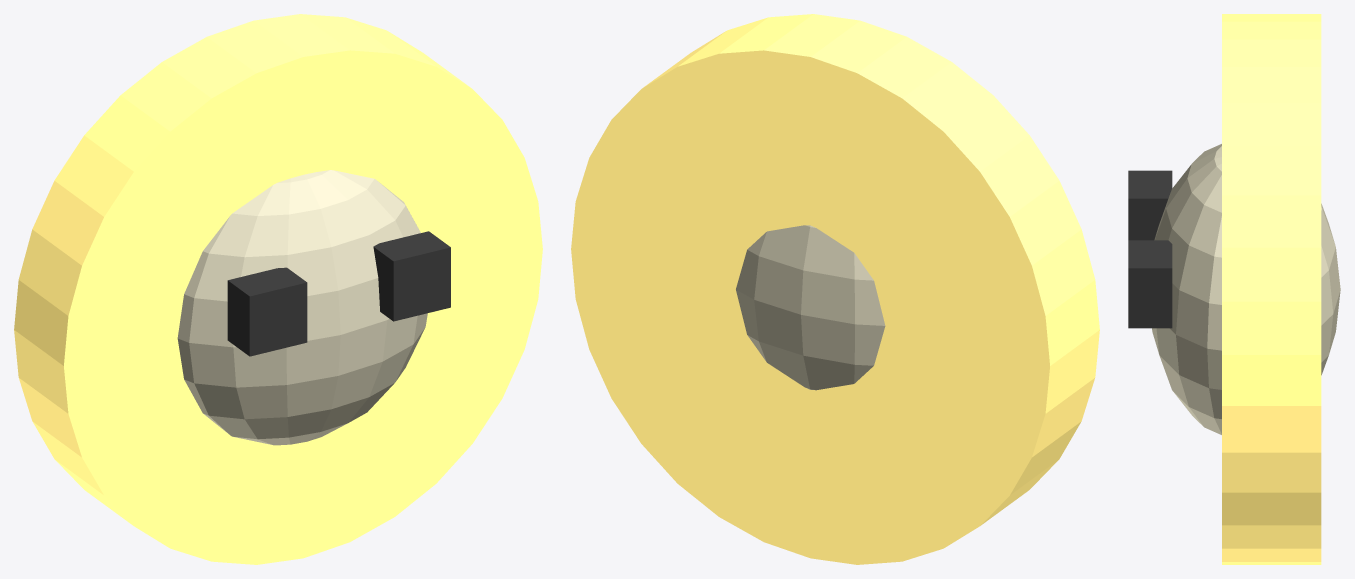
The model's file is skull_token.glb.
3 views of the same model, side by side, from view 1: azimuth 30°, elevation 25°; view 2: azimuth 150°, elevation 25°; view 3: azimuth 270°, elevation 25° (orthographic).
Parts seen in each view (by area): view 1: SB_TokCoin, SB_TokFace, SB_TokEyeL, SB_TokEyeR; view 2: SB_TokCoin, SB_TokFace; view 3: SB_TokCoin, SB_TokFace, SB_TokEyeR, SB_TokEyeL.
Boxes of the visible parts, x1=… form: SB_TokCoin: x1=14, y1=14, x2=542, y2=564; SB_TokFace: x1=177, y1=170, x2=427, y2=445; SB_TokEyeL: x1=227, y1=267, x2=307, y2=356; SB_TokEyeR: x1=373, y1=231, x2=450, y2=321; SB_TokCoin: x1=571, y1=14, x2=1099, y2=564; SB_TokFace: x1=736, y1=225, x2=885, y2=390; SB_TokCoin: x1=1222, y1=14, x2=1321, y2=564; SB_TokFace: x1=1152, y1=144, x2=1340, y2=434; SB_TokEyeR: x1=1128, y1=240, x2=1172, y2=328; SB_TokEyeL: x1=1128, y1=170, x2=1172, y2=240.
Bounding box in the file's own units: 1 × 1 × 0.385.
